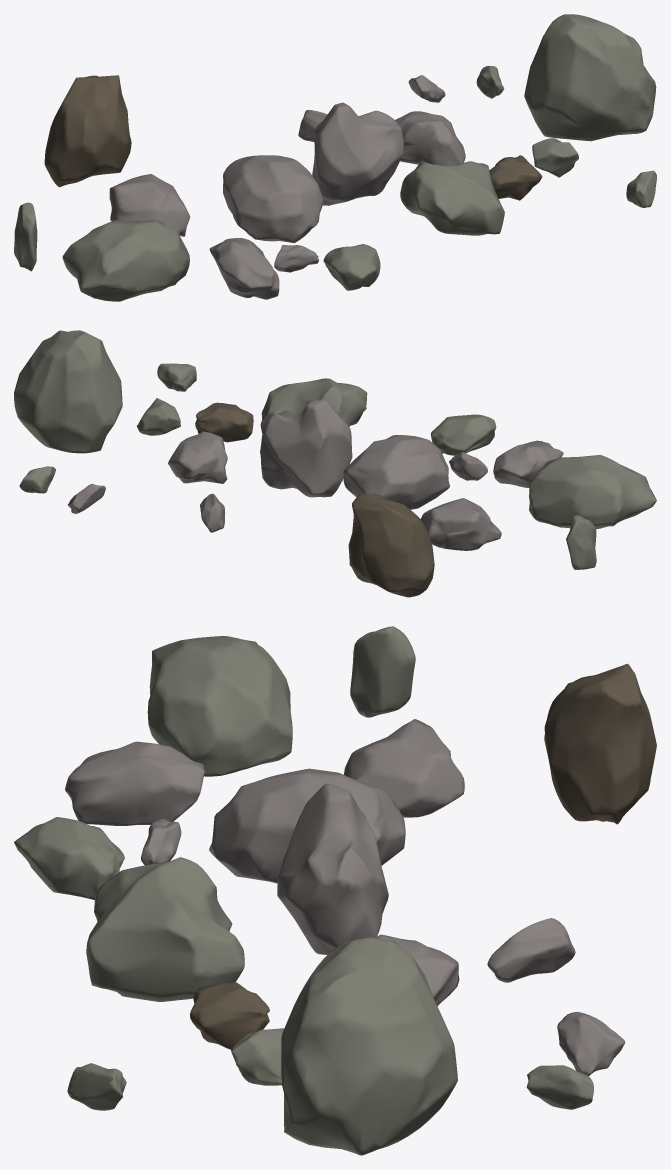
Rendered from stones.obj.
3 renders of one model, top to bottom at view 1: azimuth 30°, elevation 25°; view 2: azimuth 150°, elevation 25°; view 3: azimuth 270°, elevation 25°, orthographic. The views are drawn at different scales.
Parts seen in each view (by area): view 1: stone01, stone13, stone14, stone06, stone04, stone15, stone02, stone19, stone12, stone07, stone00, stone03 (+6 smaller); view 2: stone01, stone13, stone06, stone14, stone04, stone02, stone15, stone12, stone07, stone19, stone00, stone08 (+6 smaller); view 3: stone01, stone15, stone13, stone14, stone06, stone04, stone19, stone02, stone07, stone08, stone00, stone16 (+6 smaller).
Boxes of the visible parts, box(x1,y1,x2,y2) form: stone01: box(524, 14, 656, 141); stone13: box(62, 220, 189, 301); stone14: box(44, 75, 131, 187); stone06: box(312, 102, 403, 205); stone04: box(223, 155, 323, 243); stone15: box(400, 161, 504, 235); stone02: box(109, 174, 190, 236); stone19: box(209, 238, 279, 299); stone12: box(395, 111, 465, 165); stone07: box(323, 244, 380, 290); stone00: box(489, 155, 542, 200); stone03: box(532, 138, 578, 177); stone01: box(14, 330, 122, 453); stone13: box(529, 455, 656, 529); stone06: box(260, 400, 352, 497); stone14: box(348, 493, 434, 597); stone04: box(343, 435, 449, 509); stone02: box(421, 498, 501, 550); stone15: box(261, 378, 367, 426); stone12: box(168, 431, 227, 483); stone07: box(431, 414, 496, 455); stone19: box(493, 440, 563, 487); stone00: box(195, 402, 253, 442); stone08: box(566, 515, 596, 569); stone01: box(281, 937, 457, 1155); stone15: box(86, 857, 244, 1001); stone13: box(147, 635, 292, 776); stone14: box(544, 663, 656, 824); stone06: box(277, 783, 388, 954); stone04: box(209, 768, 405, 883); stone19: box(65, 741, 204, 825); stone02: box(344, 719, 464, 817); stone07: box(14, 817, 124, 899); stone08: box(350, 626, 415, 717); stone00: box(190, 982, 269, 1049); stone16: box(487, 918, 575, 982).
Bounding box in the file's own units: 319 × 58.42 × 186.
